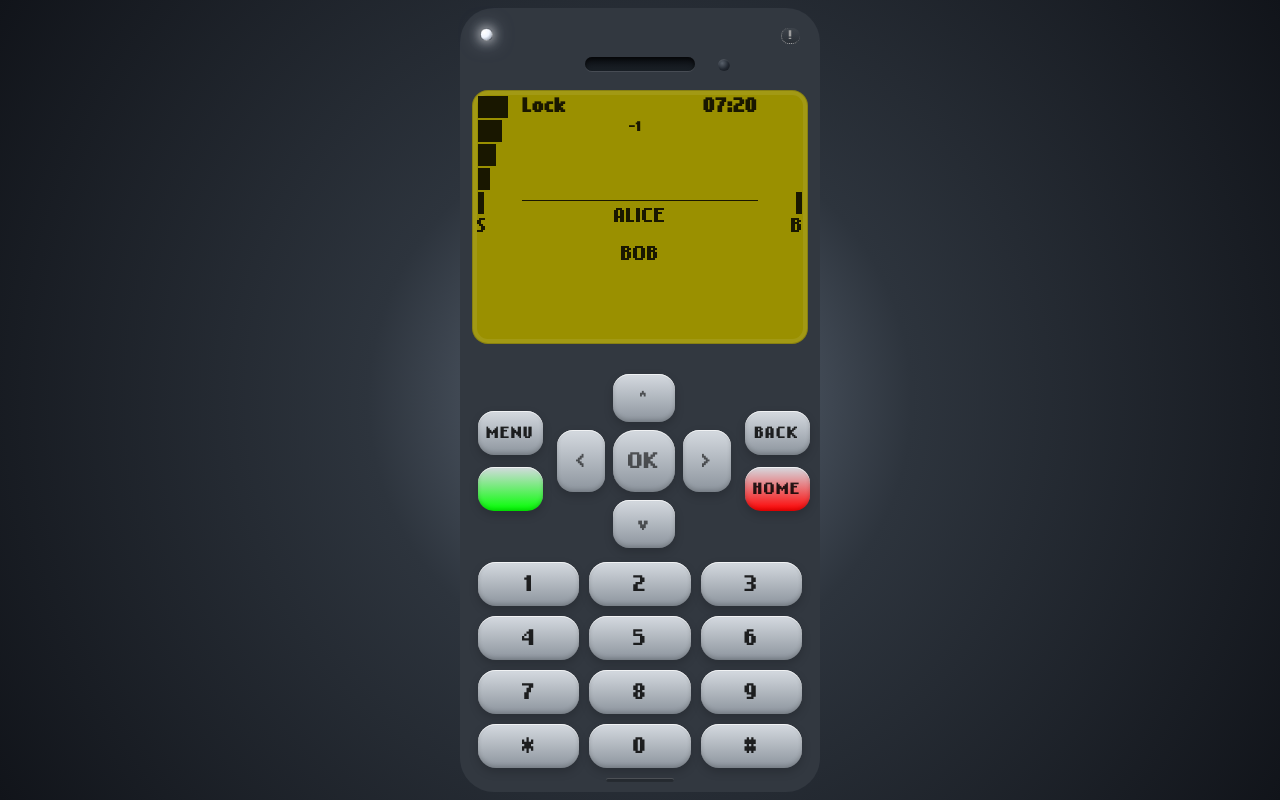
Test: phone-book text entry integration › filters search results through multi-tap numeric input
The width and height of the screenshot is (1280, 800).
Click the button "2". click: point(640, 584)
box: x1=589 y1=562 x2=691 y2=606
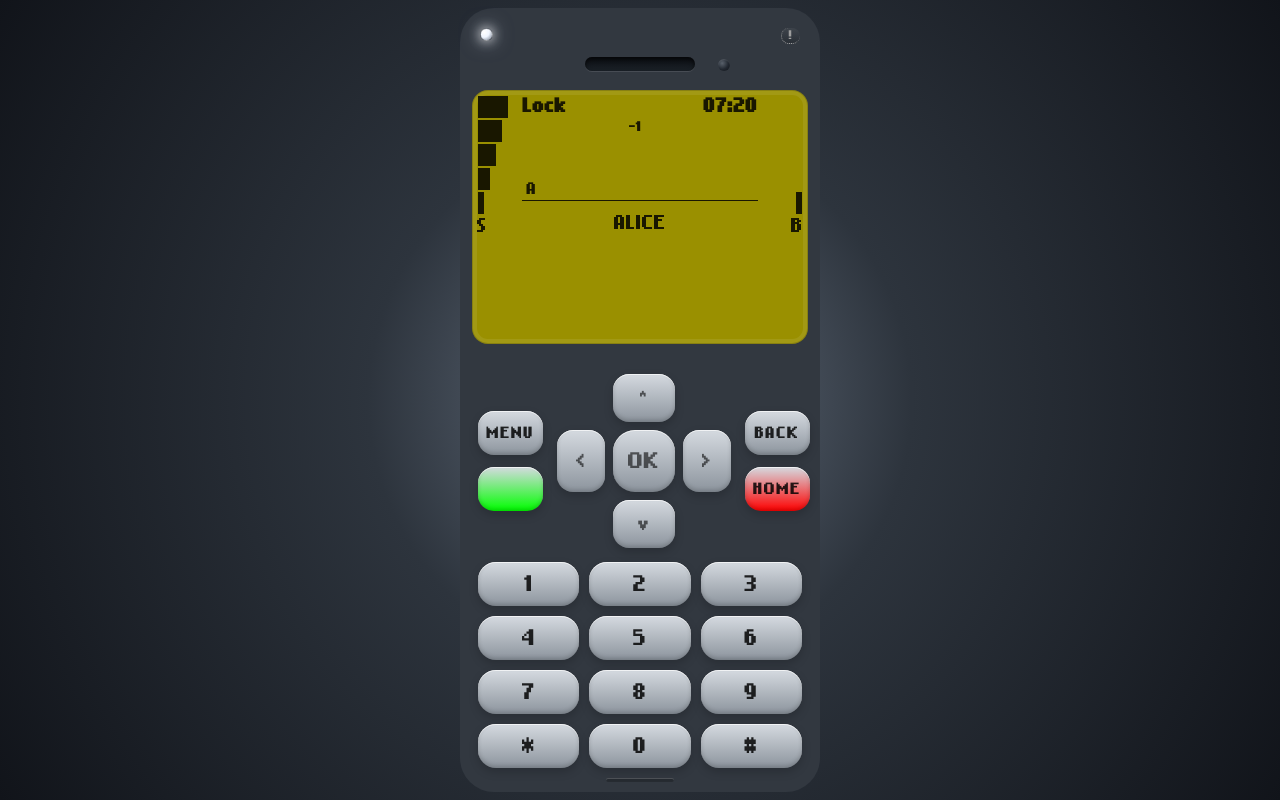
Check: the text "ALICE" is shown, box x1=614 y1=213 x2=666 y2=233
Check: the text "BOB" is gone
